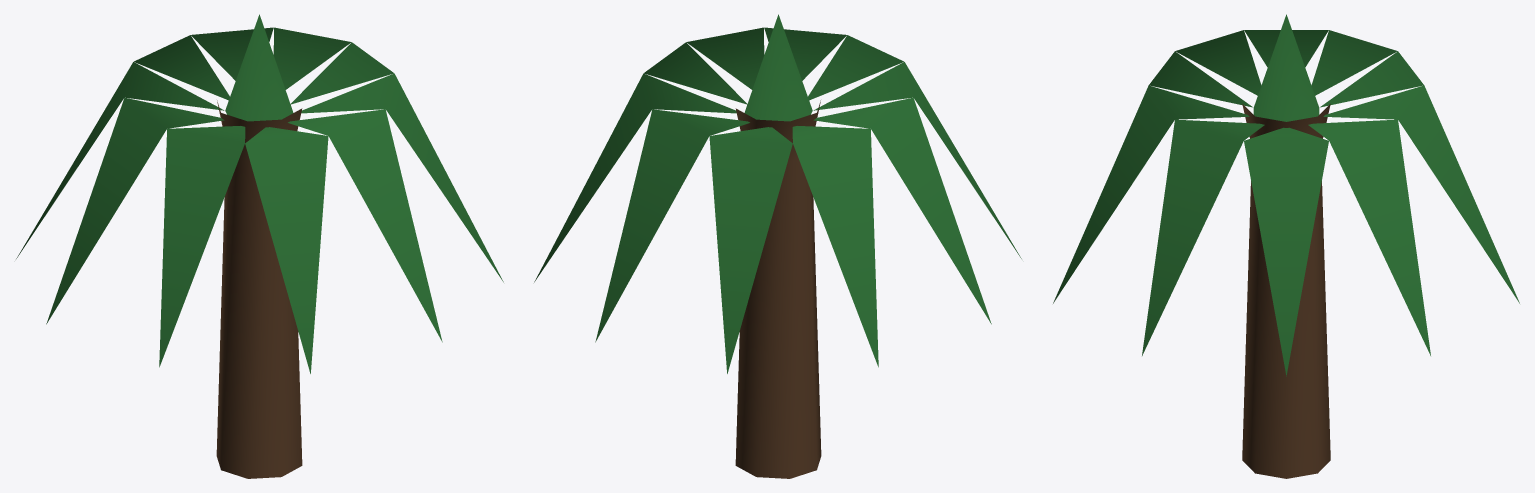
File: palm-date.gltf
3 renders of one model, left to right at view 1: azimuth 30°, elevation 25°; view 2: azimuth 150°, elevation 25°; view 3: azimuth 270°, elevation 25°, orthographic.
Parts seen in each view (by area): view 1: palm-date; view 2: palm-date; view 3: palm-date.
Part boxes in pixels (x1,y1,x2,y2): palm-date: (16, 14, 503, 478); palm-date: (534, 14, 1021, 478); palm-date: (1053, 14, 1519, 478).
Size of the model in its own units: 1 by 1 by 0.9511.
